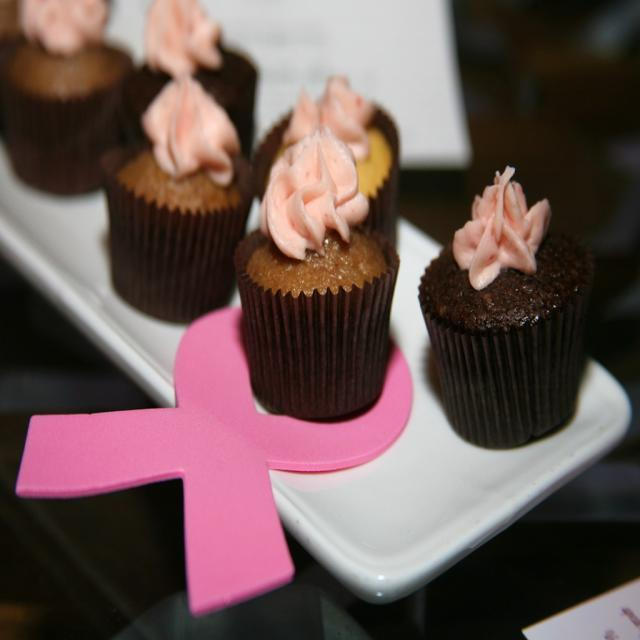Muffin: (419, 144, 600, 454), (235, 125, 401, 425), (104, 71, 254, 323), (246, 71, 401, 253), (0, 0, 134, 196), (127, 0, 258, 162)
